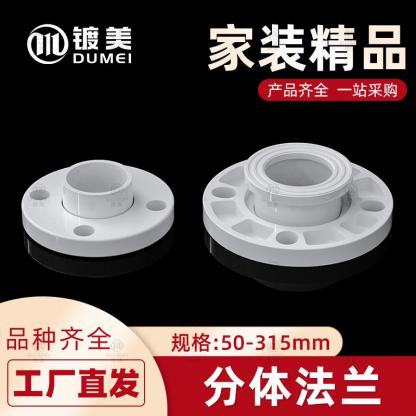FOD: (200, 142, 398, 273), (17, 155, 176, 259)
